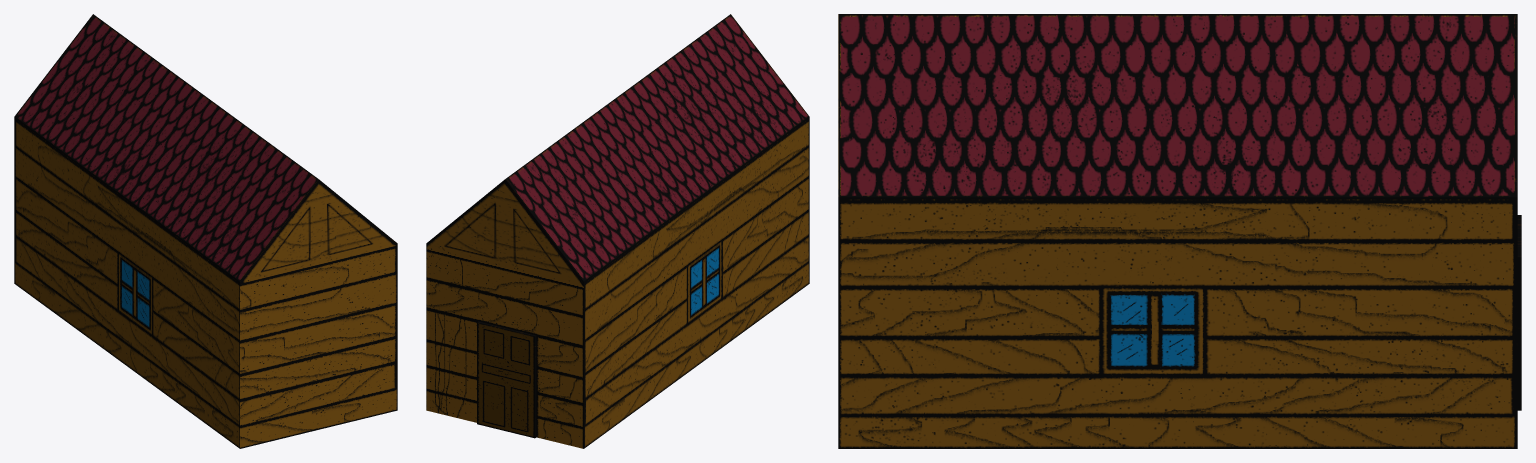
Rendered from cabin.obj.
The picture shows the model from 3 angles, left to right: view 1: azimuth 30°, elevation 25°; view 2: azimuth 150°, elevation 25°; view 3: azimuth 270°, elevation 25°; orthographic projection. The views are drawn at different scales.
Visible parts, largest first — view 1: Cube; view 2: Cube; view 3: Cube.
Boxes of the visible parts, <box> form: Cube: <box>14,14,397,448</box>; Cube: <box>426,14,809,448</box>; Cube: <box>838,14,1521,448</box>.
Bounding box in the file's own units: 8.03 × 12.22 × 20.07.
